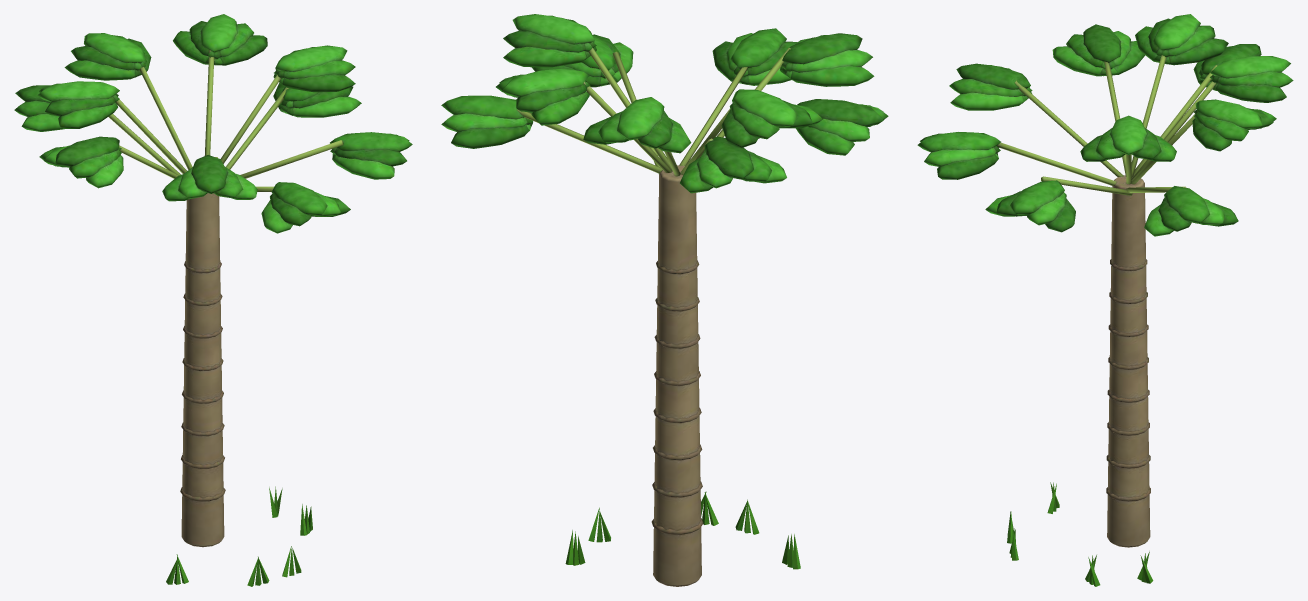
Rendered from papaya_tree.glb.
3 views of the same model, side by side, from view 1: azimuth 30°, elevation 25°; view 2: azimuth 150°, elevation 25°; view 3: azimuth 270°, elevation 25° (orthographic). The views are drawn at different scales.
Visible parts, largest first — view 1: crown, papaya_tree; view 2: crown, papaya_tree; view 3: crown, papaya_tree.
Part boxes in pixels (x1,y1,x2,y2): crown: [14, 14, 412, 547]; papaya_tree: [166, 486, 312, 586]; crown: [441, 14, 888, 586]; papaya_tree: [565, 491, 800, 569]; crown: [917, 14, 1293, 547]; papaya_tree: [1007, 482, 1153, 586].
Bounding box in the file's own units: 1.1 × 1.43 × 1.04.
Materials: 1 (1 with a texture image).
